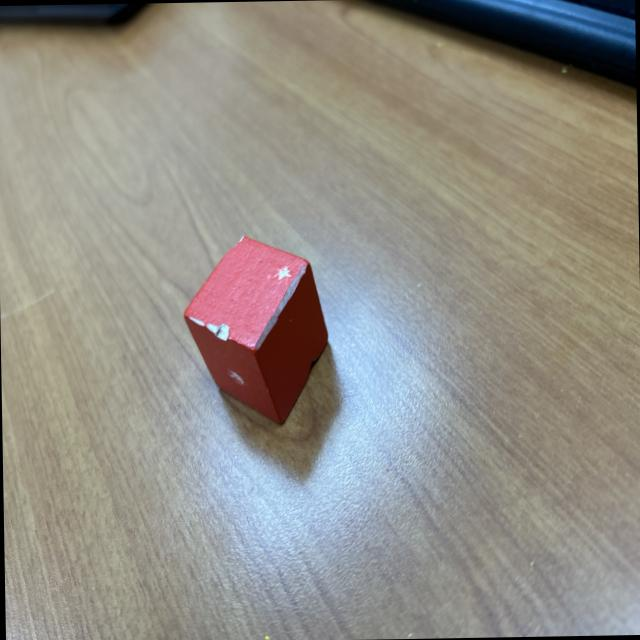broken: (182, 233, 330, 427)
